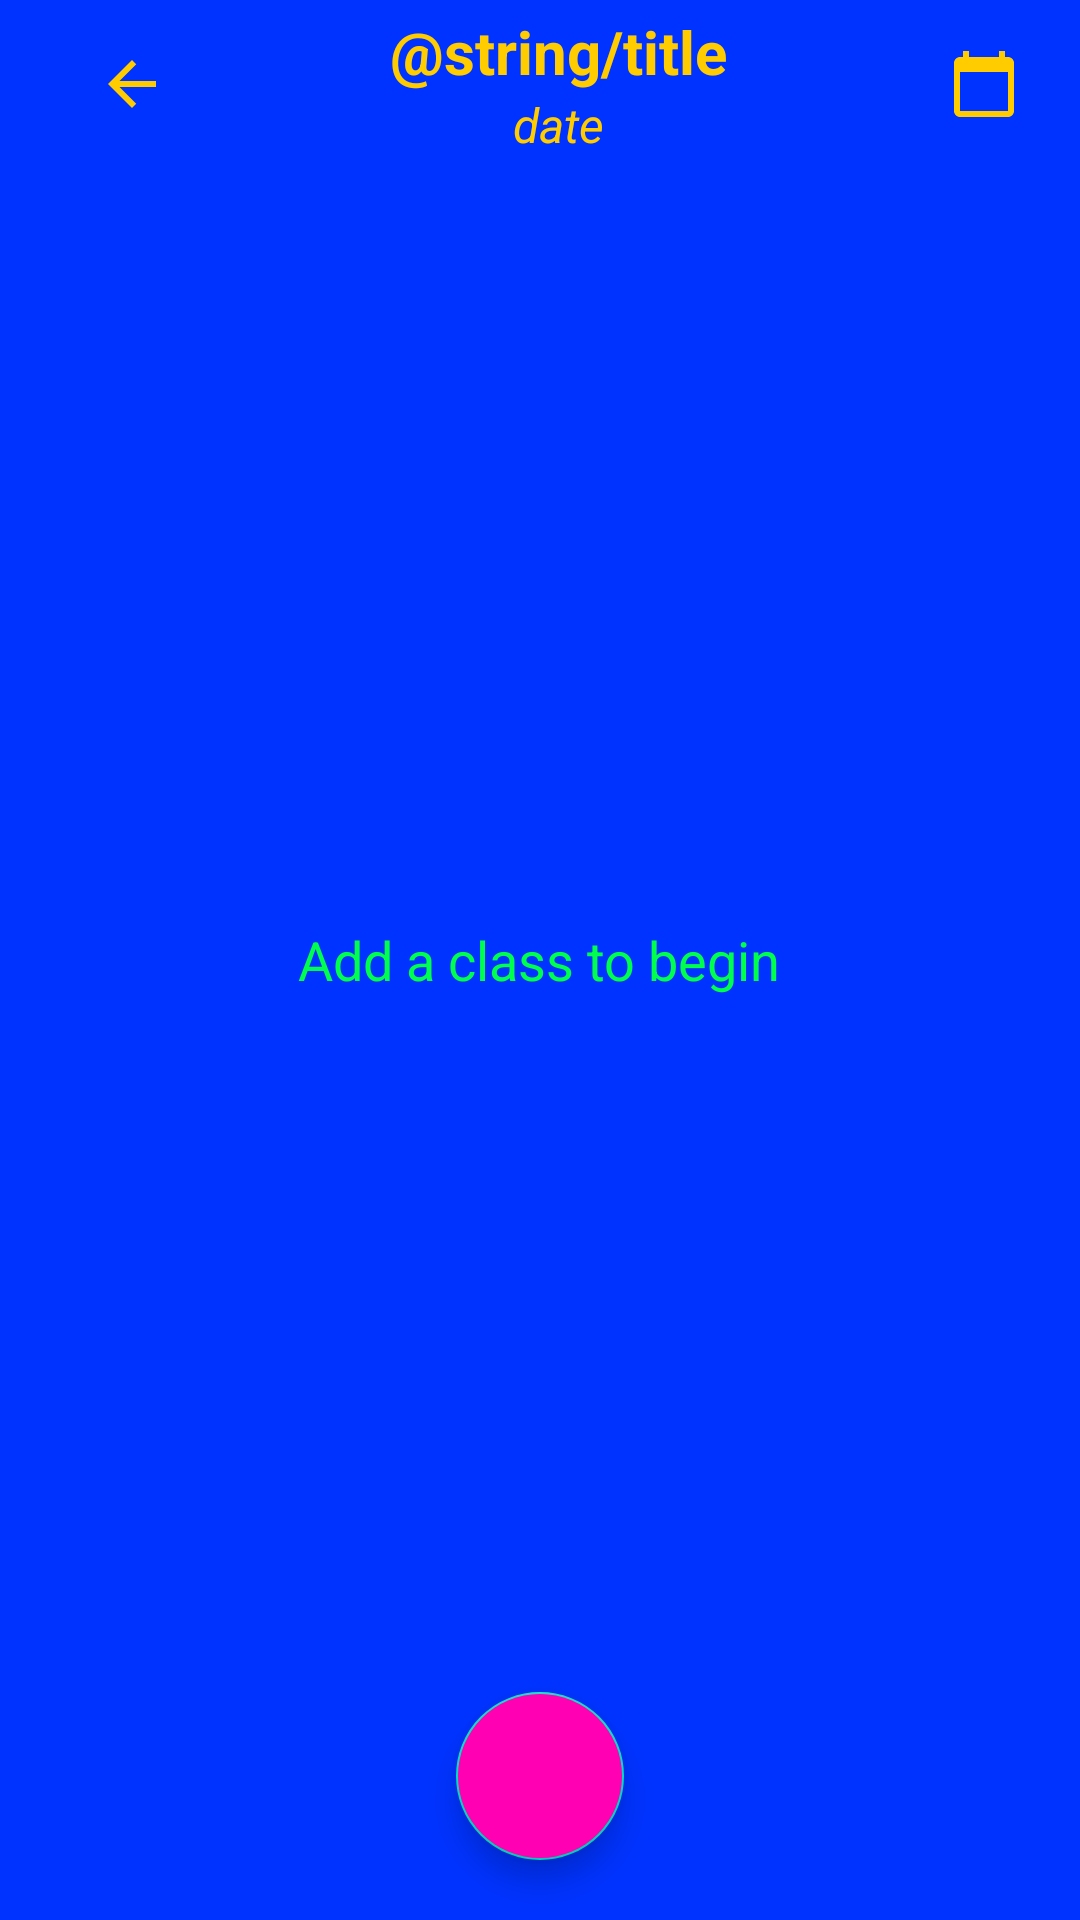

Screen size 1080w x 1920h. Icon name, then its box in pixels as (x1, y1, x2, y2):
arrow back: (108, 60, 156, 108)
calendar: (954, 51, 1014, 117)
